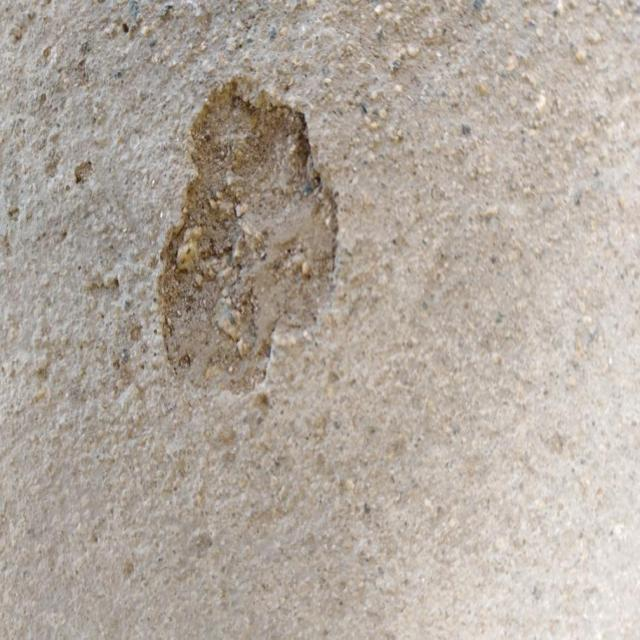concrete spalling: (158, 72, 339, 397)
